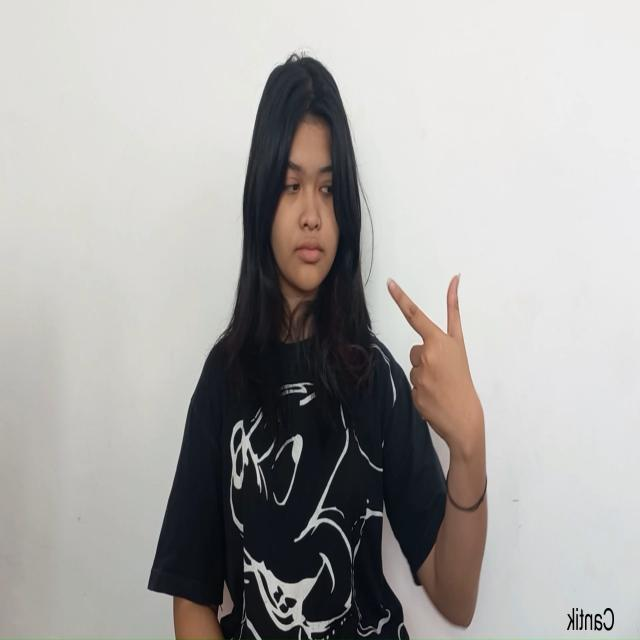Cantik -BISINDO-: (385, 269, 487, 466)
